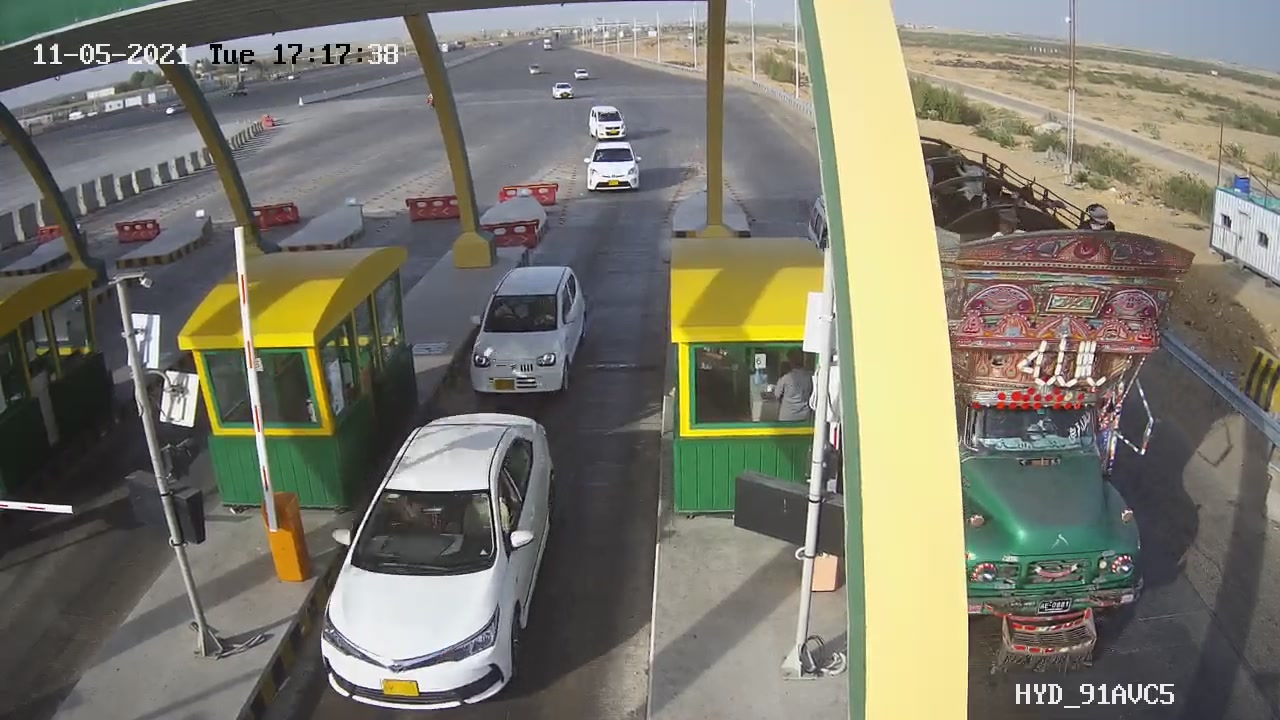F1: (451, 256, 611, 407)
